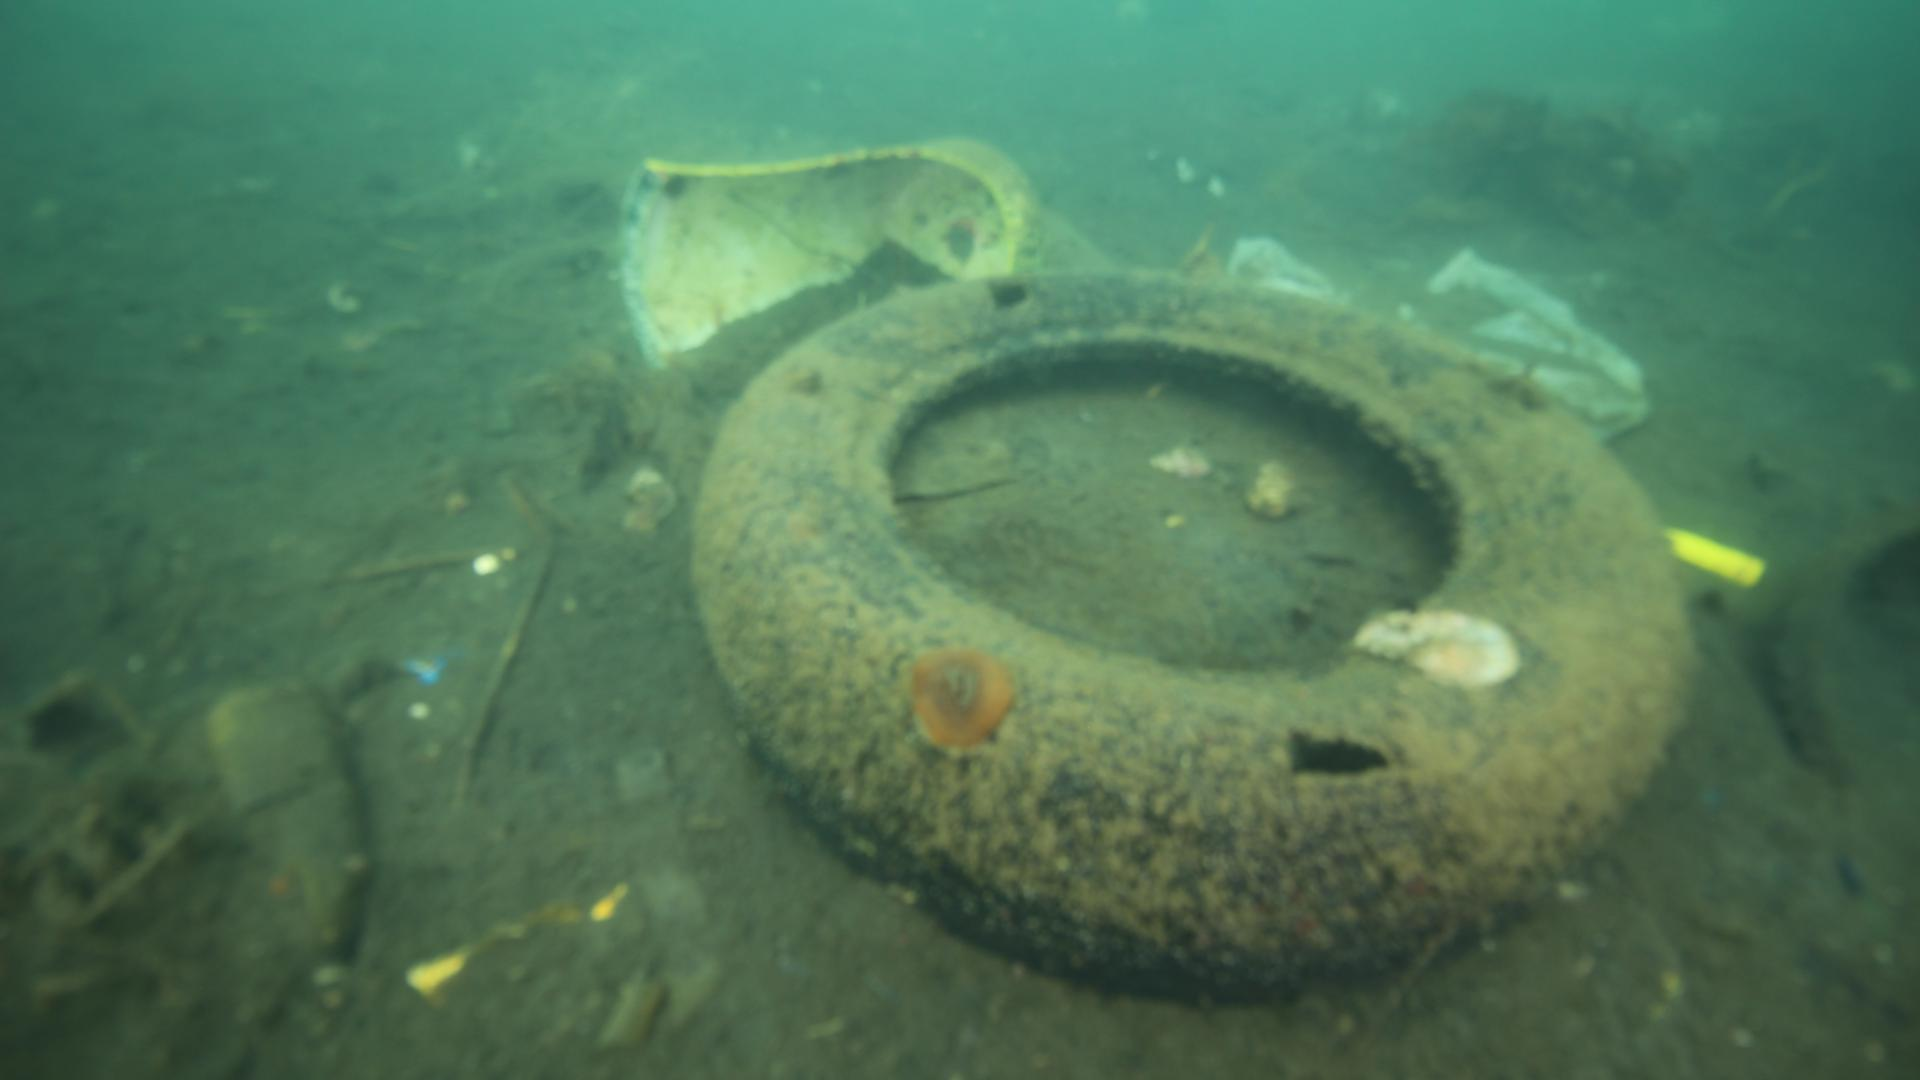tire: (684, 264, 1698, 994)
